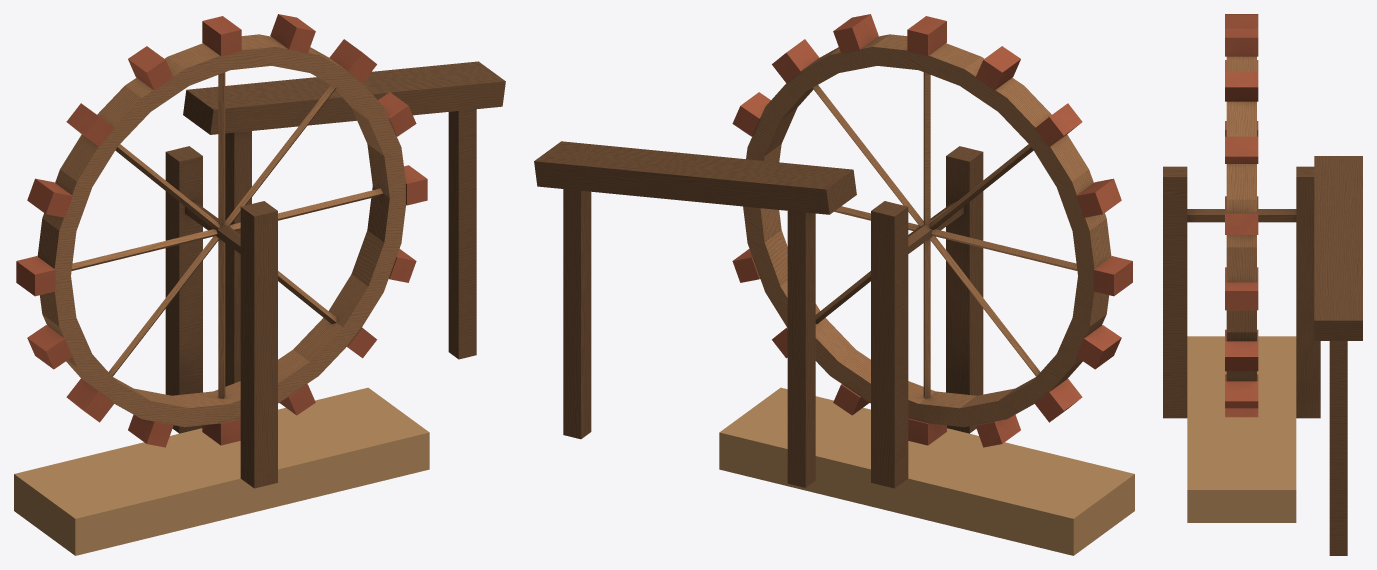
Rendered from vattenhjul_tex.glb.
3 renders of one model, left to right at view 1: azimuth 30°, elevation 25°; view 2: azimuth 150°, elevation 25°; view 3: azimuth 270°, elevation 25°, orthographic. The views are drawn at different scales.
Visible parts, largest first — view 1: vattenhjul; view 2: vattenhjul; view 3: vattenhjul.
Boxes of the visible parts, <box> form: vattenhjul: <box>14,14,505,555</box>; vattenhjul: <box>534,14,1134,555</box>; vattenhjul: <box>1163,14,1362,555</box>.
Size of the model in its own units: 8.83 by 7.53 by 3.3.
4 materials, 3 textured.
